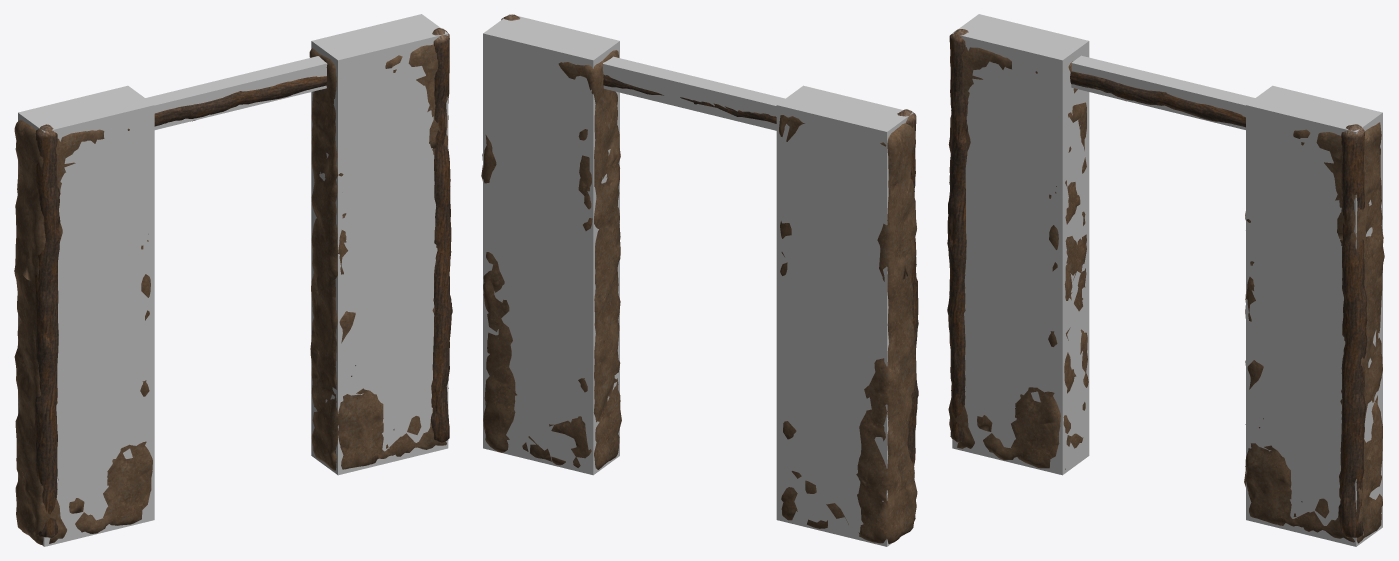
File: SM_mud_wall_mod_03.fbx
3 renders of one model, left to right at view 1: azimuth 30°, elevation 25°; view 2: azimuth 150°, elevation 25°; view 3: azimuth 330°, elevation 25°, orthographic.
Visible parts, largest first — view 1: SM_mud_wall_mod_03_ConvexHulls, SM_mud_wall_mod_03; view 2: SM_mud_wall_mod_03_ConvexHulls, SM_mud_wall_mod_03; view 3: SM_mud_wall_mod_03_ConvexHulls, SM_mud_wall_mod_03.
Part boxes in pixels (x1,y1,x2,y2): SM_mud_wall_mod_03_ConvexHulls: (18,14,448,546); SM_mud_wall_mod_03: (14,28,452,544); SM_mud_wall_mod_03_ConvexHulls: (483,14,913,546); SM_mud_wall_mod_03: (481,14,918,543); SM_mud_wall_mod_03_ConvexHulls: (952,14,1382,546); SM_mud_wall_mod_03: (947,29,1384,543).
Bounding box in the file's own units: 265 × 35.25 × 255.
3 materials, 2 textured.
